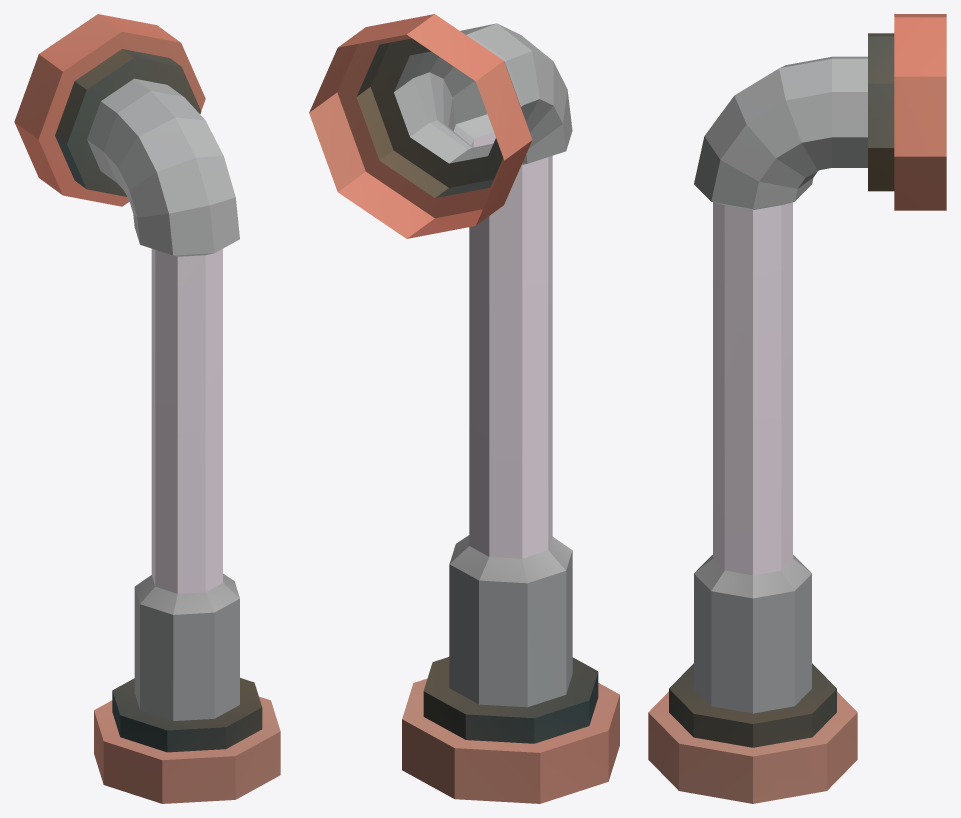
File: Pipe_L_shaped_long.fbx
The picture shows the model from 3 angles, left to right: view 1: azimuth 30°, elevation 25°; view 2: azimuth 150°, elevation 25°; view 3: azimuth 270°, elevation 25°; orthographic projection. The views are drawn at different scales.
Visible parts, largest first — view 1: Pipe_L_shaped_long; view 2: Pipe_L_shaped_long; view 3: Pipe_L_shaped_long.
Part boxes in pixels (left/top/right/bottom): Pipe_L_shaped_long: left=14, top=14, right=280, bottom=803; Pipe_L_shaped_long: left=309, top=14, right=619, bottom=803; Pipe_L_shaped_long: left=648, top=14, right=946, bottom=803.
Size of the model in its own units: 32.45 by 127 by 46.24.
